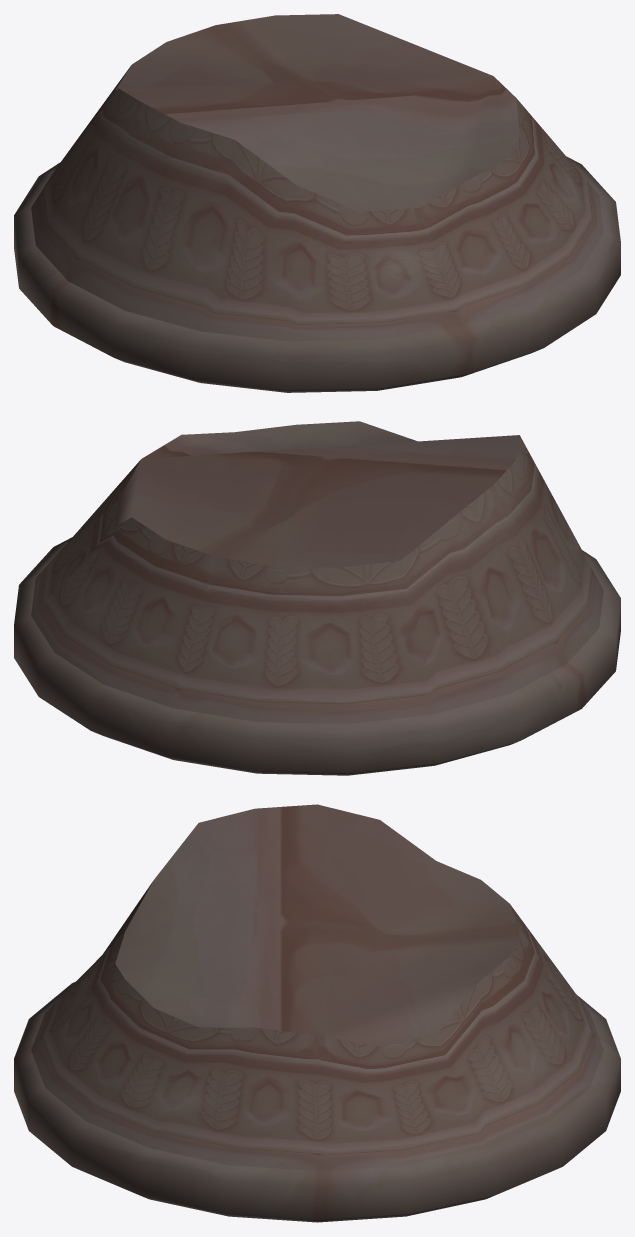
File: PillarDamaged3_3.fbx
3 renders of one model, top to bottom at view 1: azimuth 30°, elevation 25°; view 2: azimuth 150°, elevation 25°; view 3: azimuth 270°, elevation 25°, orthographic.
Visible parts, largest first — view 1: polySurface65; view 2: polySurface65; view 3: polySurface65.
Part boxes in pixels (<box>): polySurface65: <box>14,14,620,392</box>; polySurface65: <box>14,421,620,775</box>; polySurface65: <box>14,804,620,1222</box>.
Bounding box in the file's own units: 59.18 × 22.76 × 59.18.
